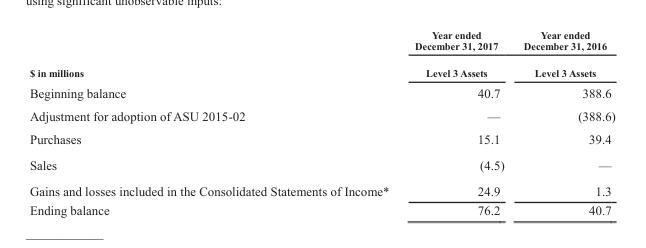table: (28, 28, 614, 217)
table column: (28, 28, 401, 217), (401, 28, 513, 217), (513, 28, 614, 217)
table column header: (28, 28, 614, 81)
table row: (28, 28, 614, 81), (28, 151, 614, 177), (28, 127, 614, 151), (28, 81, 614, 104), (28, 104, 614, 127), (28, 177, 614, 200), (28, 200, 614, 217)
